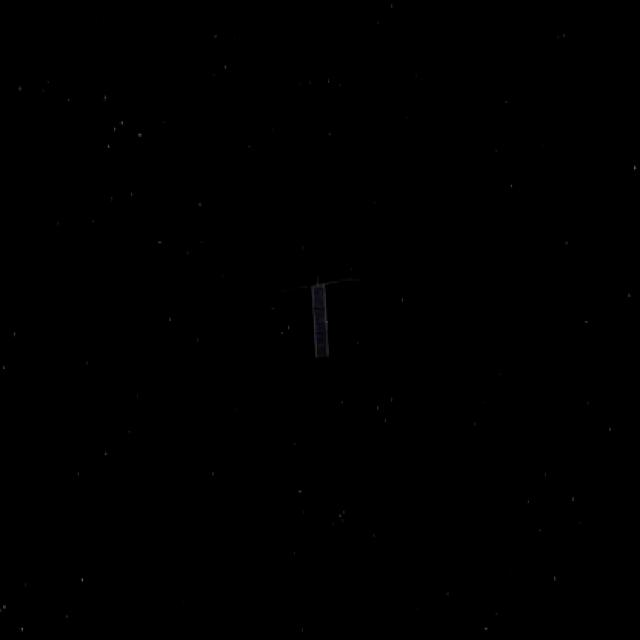medium_debris: (265, 267, 361, 358)
